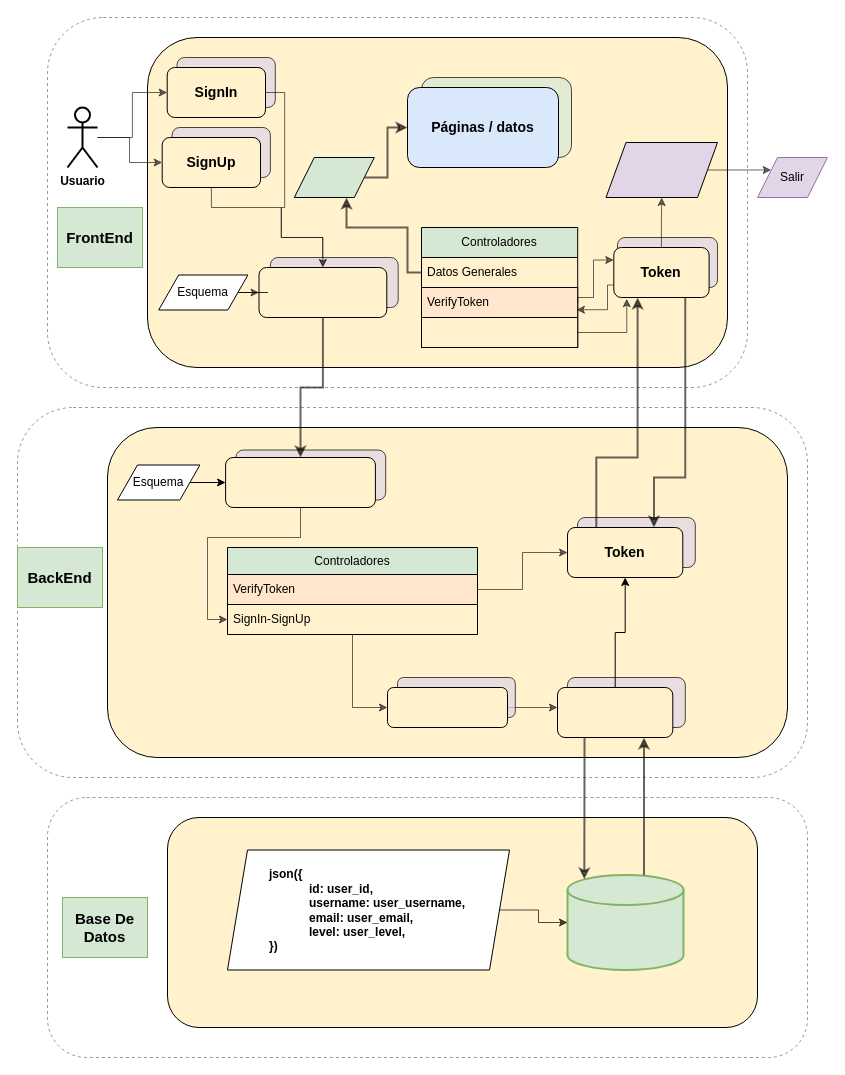
This 845x1075 diagram has some shape labels left out. The shapes that lost their labels are listed below. From the top down, each one's box as (x1, y1, x2, y2) in pixels, then its label:
(293, 156, 374, 198): Contexto
(605, 142, 718, 198): No permitido - salir
(258, 266, 387, 318): Validación de esquema (FrontEnd)
(420, 316, 578, 348): LogOut
(225, 456, 375, 508): Validación de esquema (BackEnd)
(386, 686, 508, 728): Guardar Datos
(556, 686, 673, 738): Conexión BD
(566, 874, 684, 970): Mongo DB
